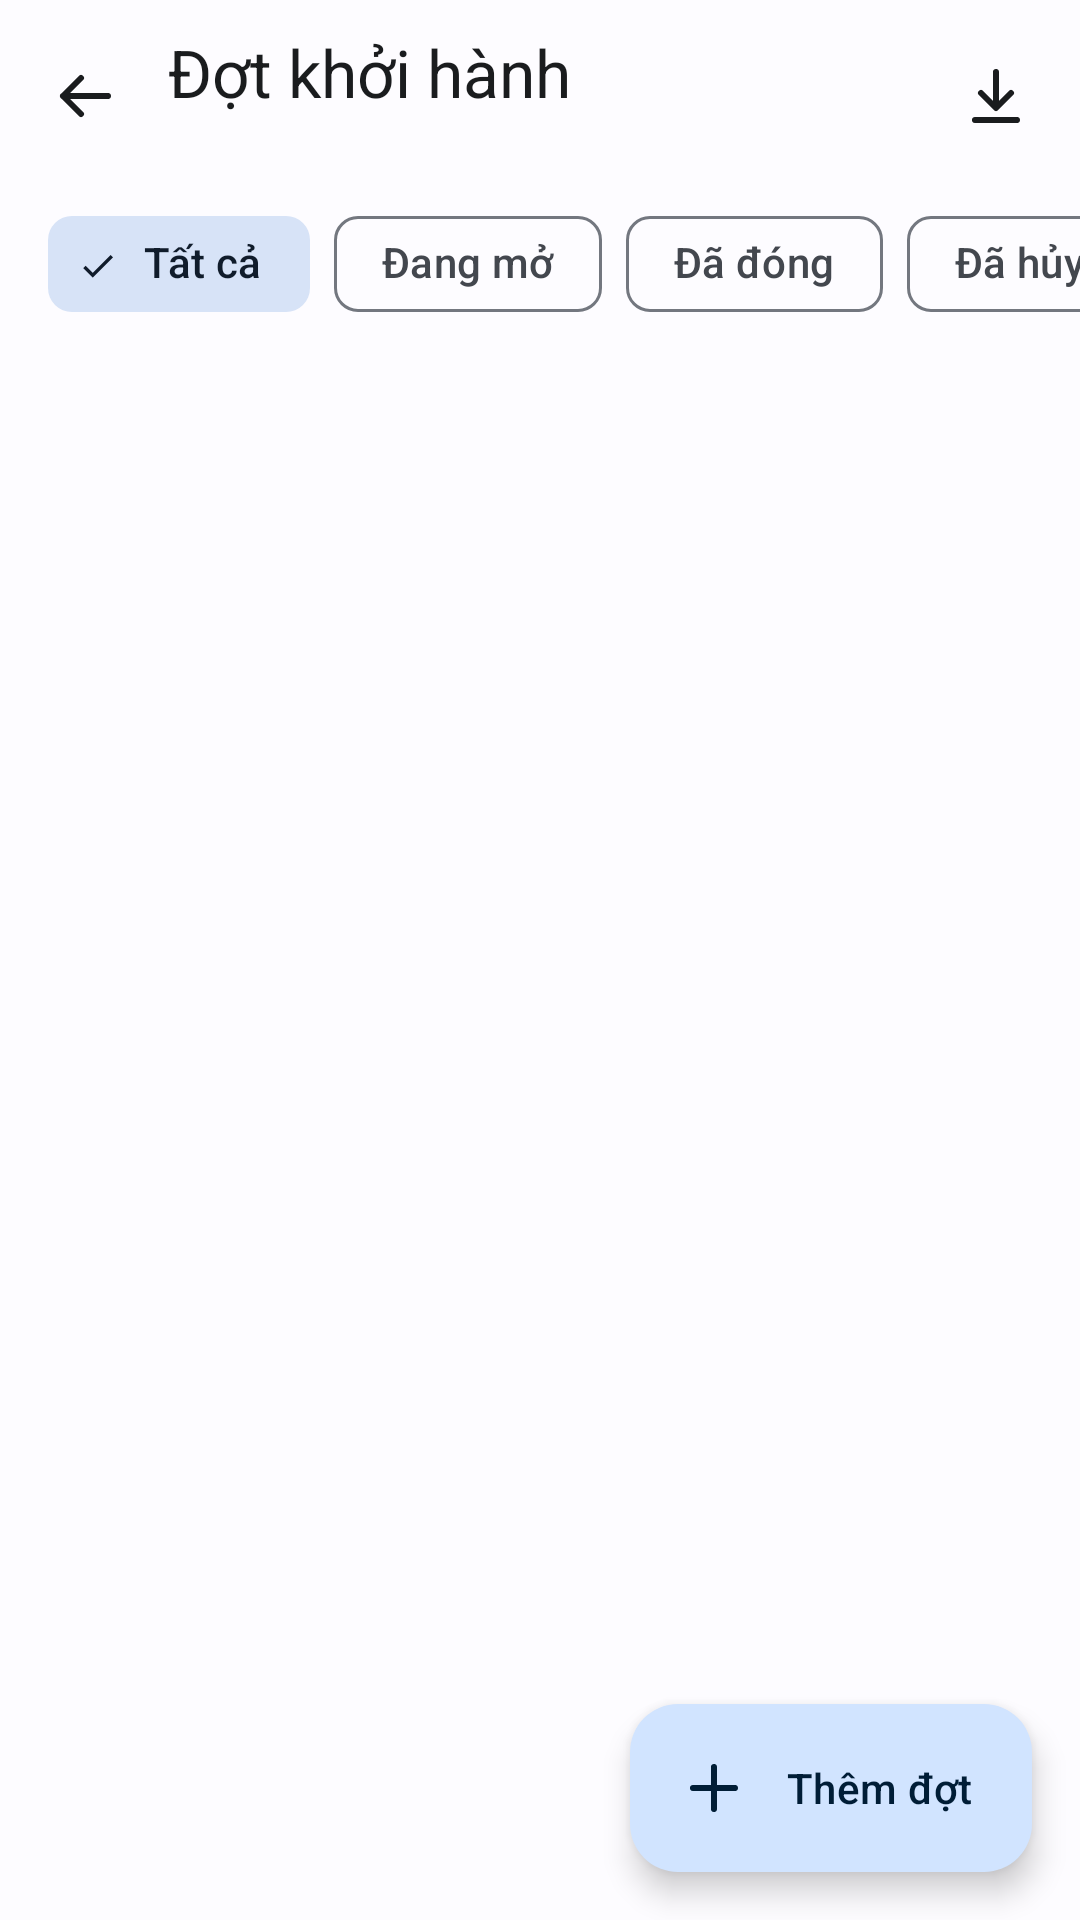

Icon bounding boxes for this 1080x1920 phone screenshot, format (x1, y1, x2, y2):
Quay lại: (60, 75, 111, 117)
Xuất danh sách khách: (972, 69, 1020, 123)
